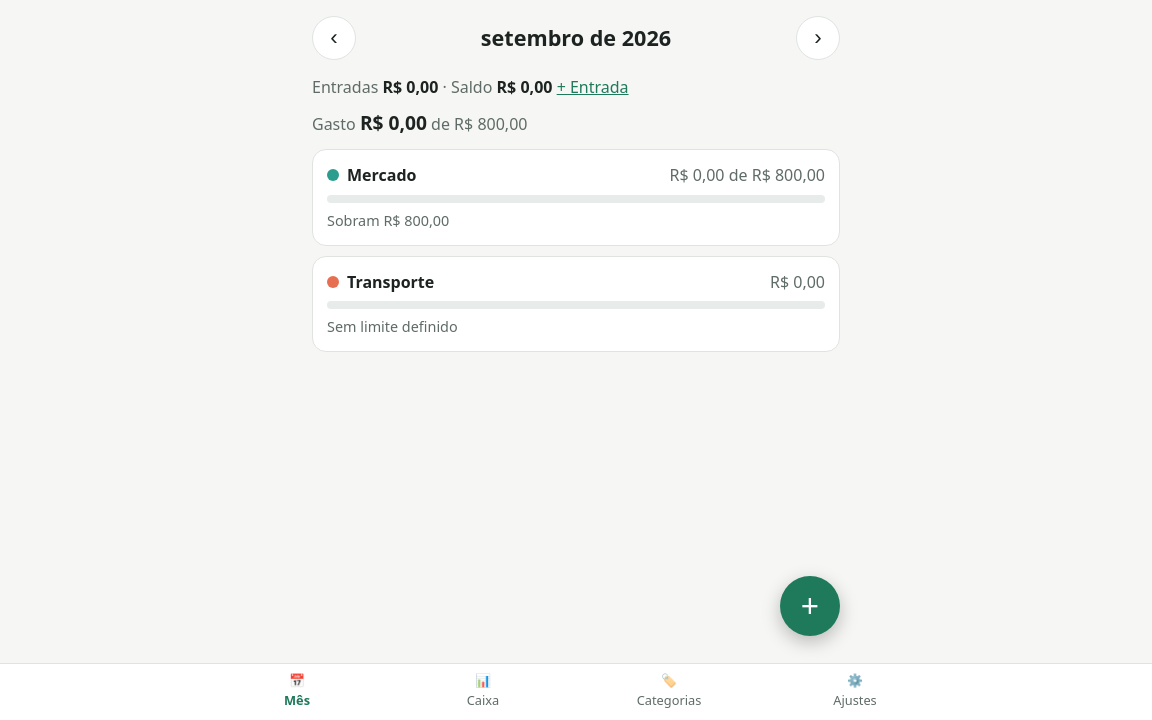
it: despesa › lançar despesa atualiza o restante da categoria
Click the link named "Nova despesa".
click(810, 606)  # box [780,576,840,636]
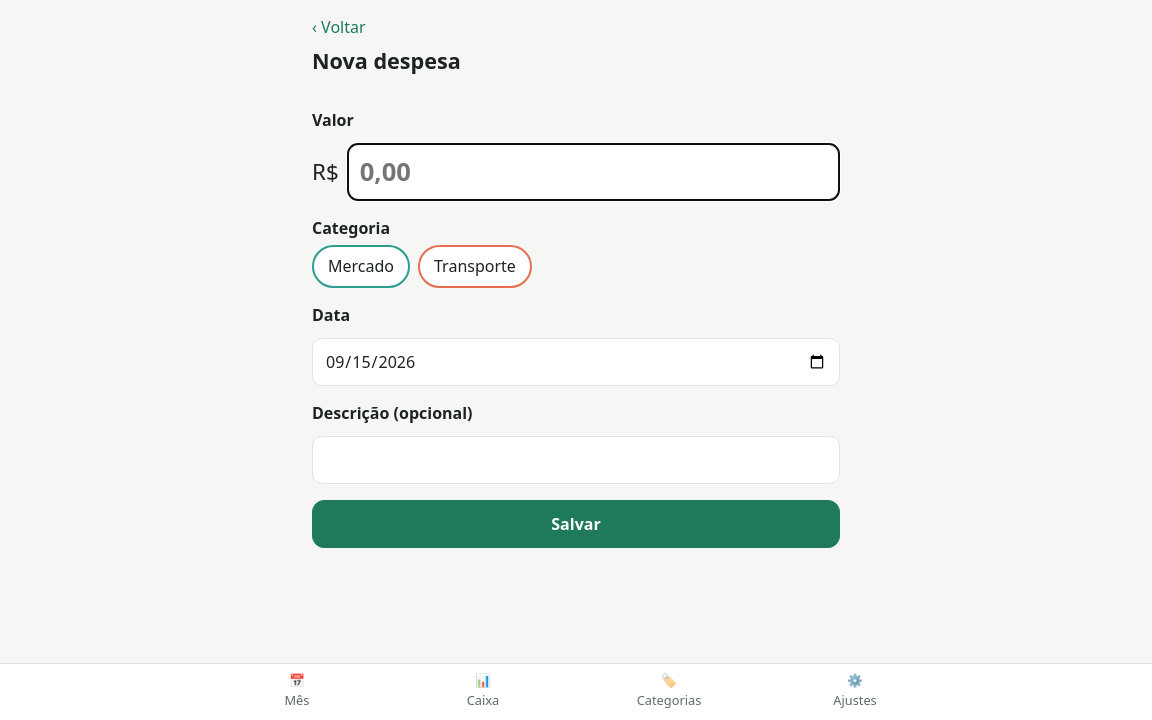
Now the date field labelled "Data" holds "2026-09-15", box [312,338,840,386]
Type "120,50" into the field labelled "Valor".
click(593, 172); type("120,50")  # box [347,143,840,201]
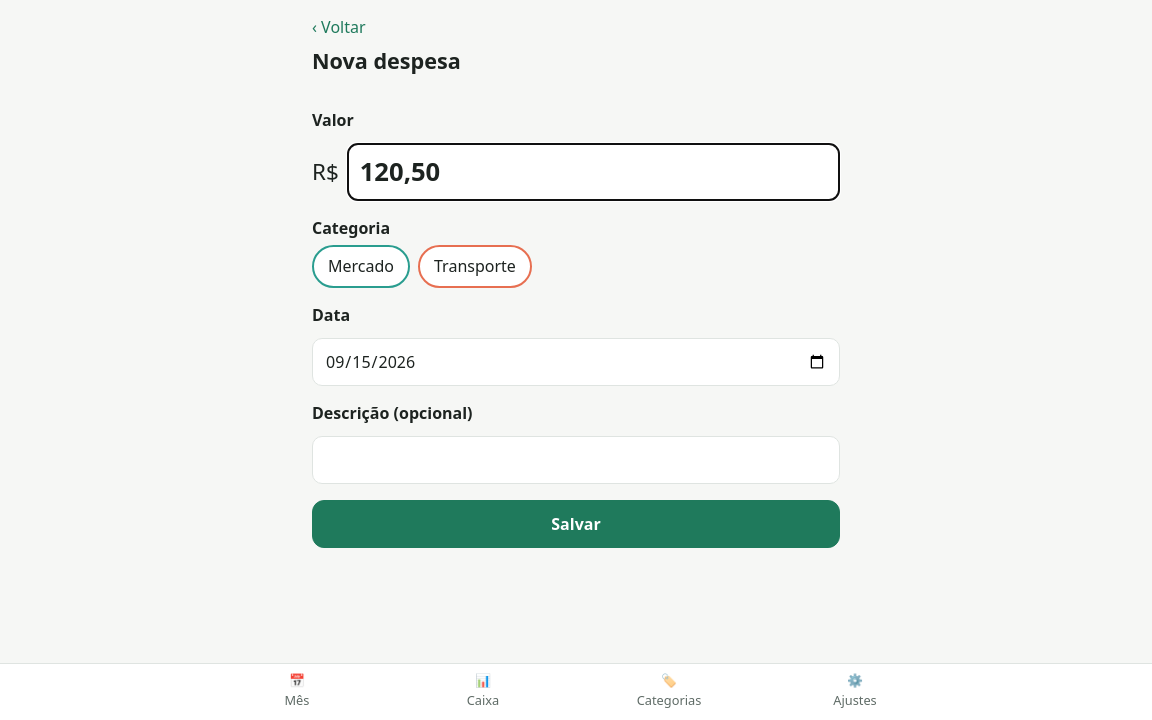
Click the button "Mercado".
click(361, 266)  # box [312,245,410,288]
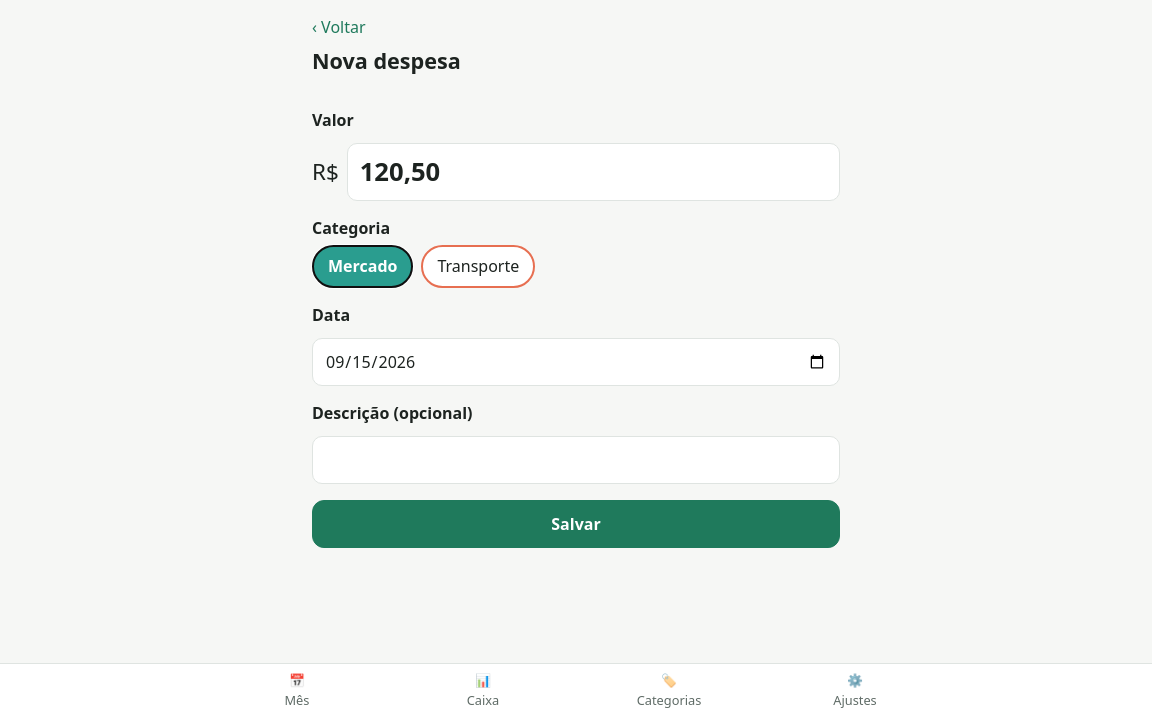
Click the button "Salvar".
click(576, 524)  # box [312,500,840,548]
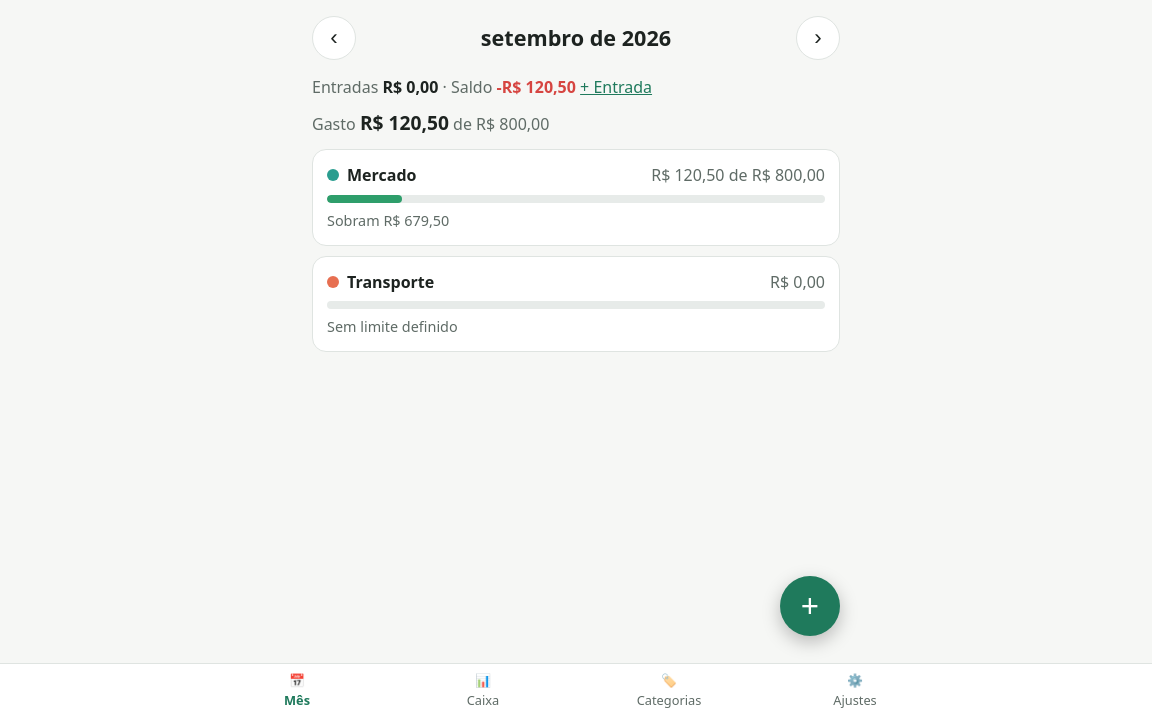
Now the text "Sobram R$ 679,50" is shown, box [327,211,449,230]
